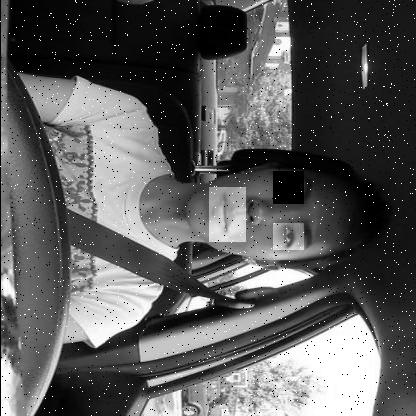seatbelt: (70, 136, 394, 289)
